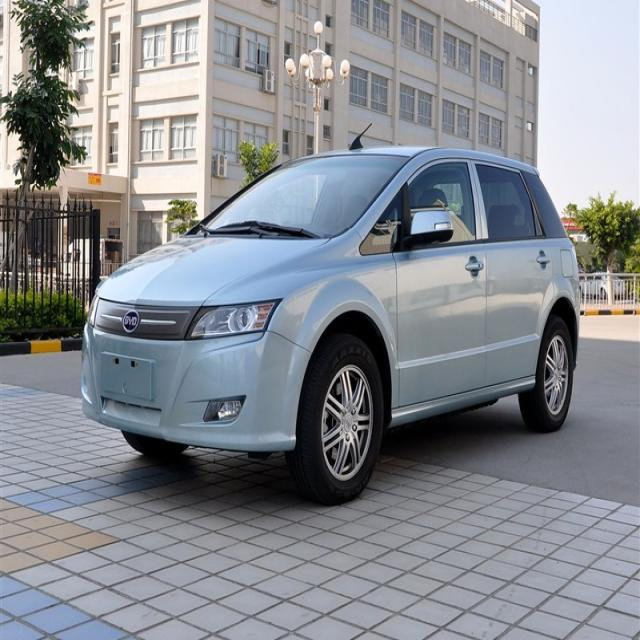door: (474, 157, 544, 384)
front_bumper: (80, 326, 301, 453)
front_glass: (193, 155, 408, 236)
front_left_side_door: (391, 157, 488, 410)
front_left_side_light: (188, 300, 277, 340)
front_left_side_mirror: (401, 210, 454, 248)
front_right_side_light: (86, 294, 98, 329)
wheel: (296, 343, 383, 505), (516, 317, 576, 431)
